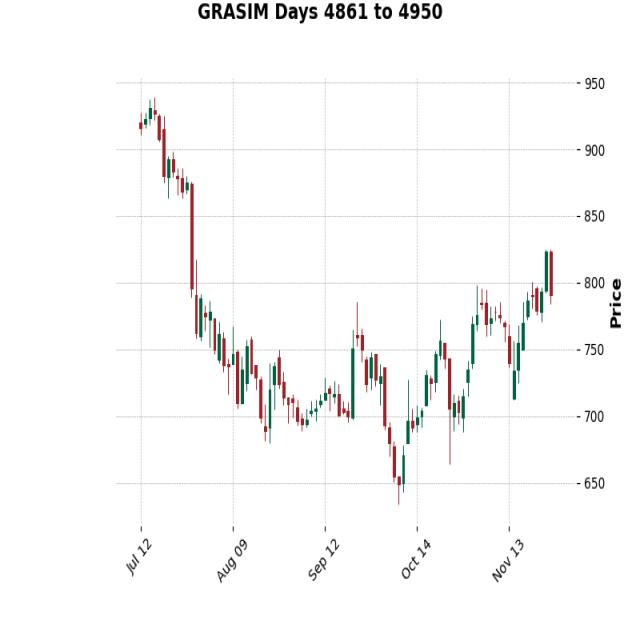Inverse Head and Shoulder: (332, 299, 590, 488)
